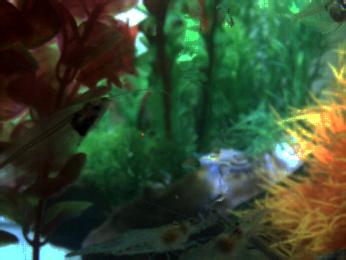X-ray fish: (279, 1, 346, 37)
glassfish: (1, 96, 113, 198)
siberian prawn: (70, 216, 217, 260), (171, 206, 272, 260)
